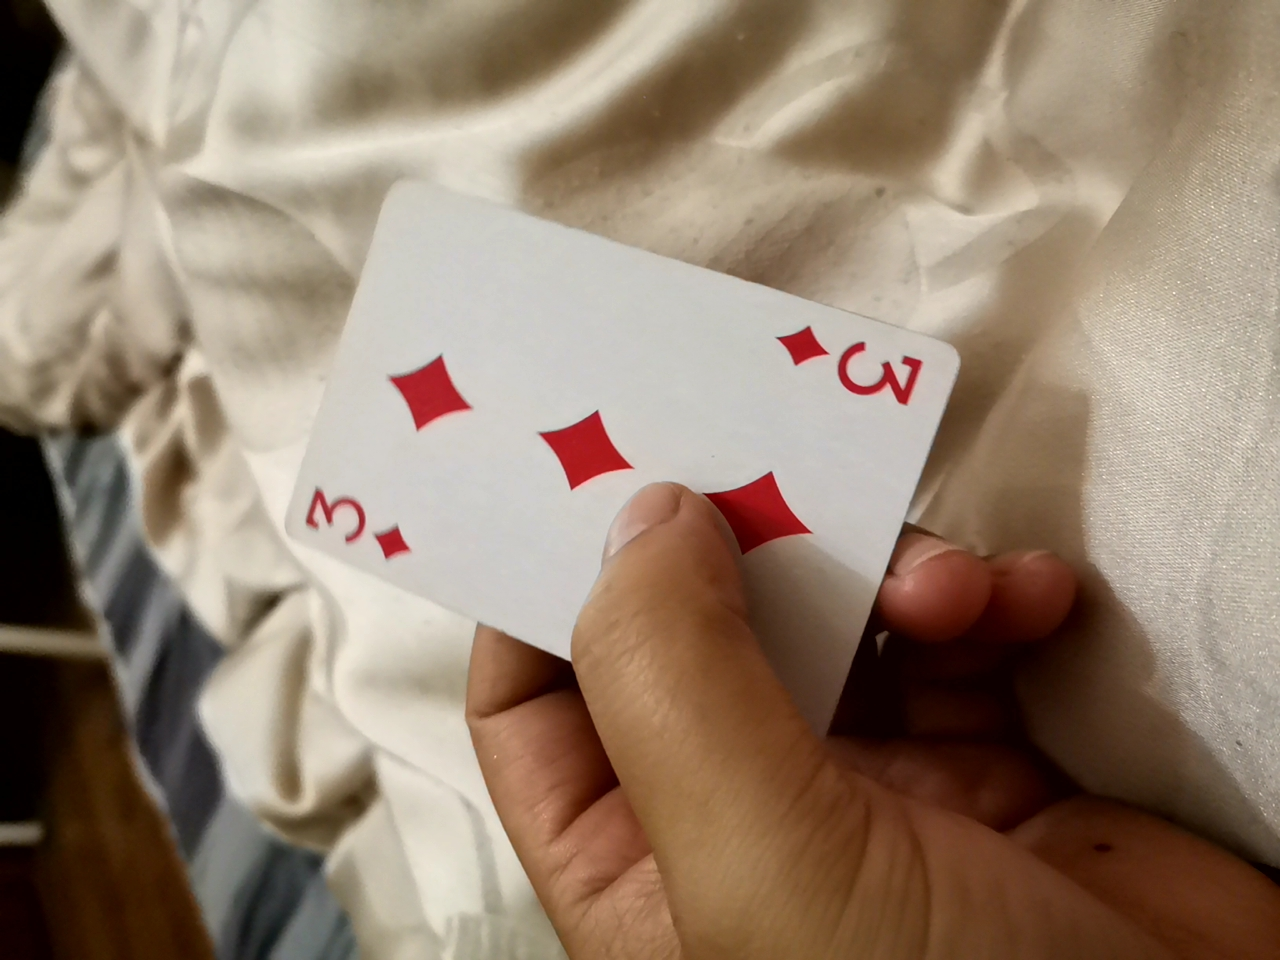fk 3: (226, 130, 990, 691)
